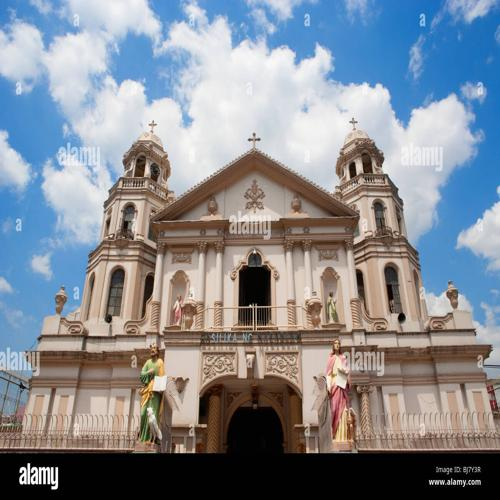Quiapo Church: (31, 110, 453, 440)
